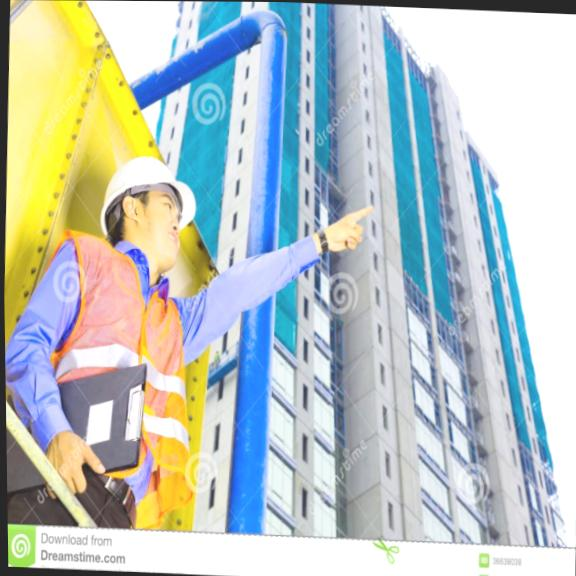safety_vest: (40, 213, 198, 503)
